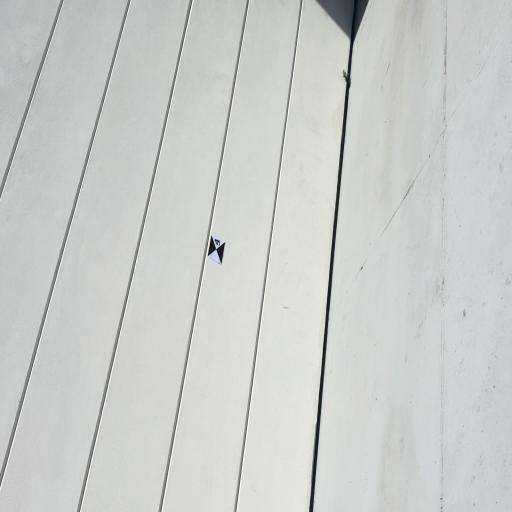target4: (208, 234, 225, 264)
